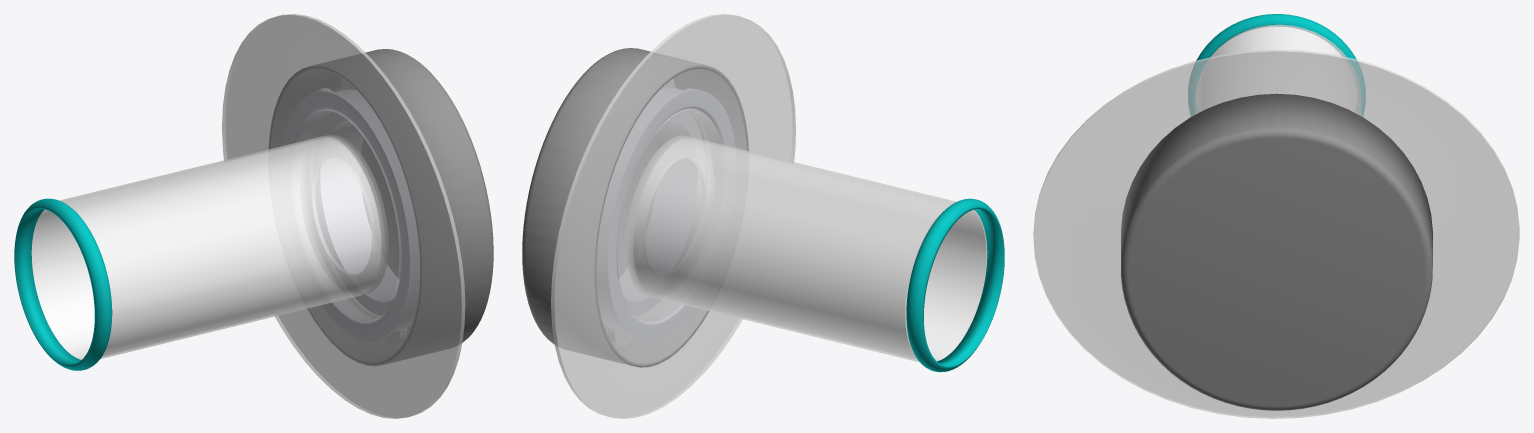
File: continent_animated.glb
3 views of the same model, side by side, from view 1: azimuth 30°, elevation 25°; view 2: azimuth 150°, elevation 25°; view 3: azimuth 270°, elevation 25° (orthographic).
Visible parts, largest first — view 1: Separator-3, Separator-2, Separator3, Separator0, Separator-4; view 2: Separator-3, Separator-2, Separator3, Separator0, Separator-4; view 3: Separator3, Separator-2, Separator-3, Separator-4.
Part boxes in pixels (box(x1,y1,x2,y2)): Separator-3: box(31, 135, 388, 359); Separator-2: box(222, 14, 465, 418); Separator3: box(268, 49, 493, 366); Separator0: box(283, 89, 419, 341); Separator-4: box(14, 198, 112, 370); Separator-3: box(626, 136, 987, 362); Separator-2: box(551, 14, 795, 418); Separator3: box(522, 48, 748, 367); Separator0: box(596, 88, 735, 341); Separator-4: box(906, 198, 1004, 372); Separator3: box(1121, 93, 1432, 410); Separator-2: box(1033, 49, 1519, 418); Separator-3: box(1196, 24, 1360, 115); Separator-4: box(1188, 14, 1365, 116).
Size of the model in its own units: 10.54 by 10 by 12.
